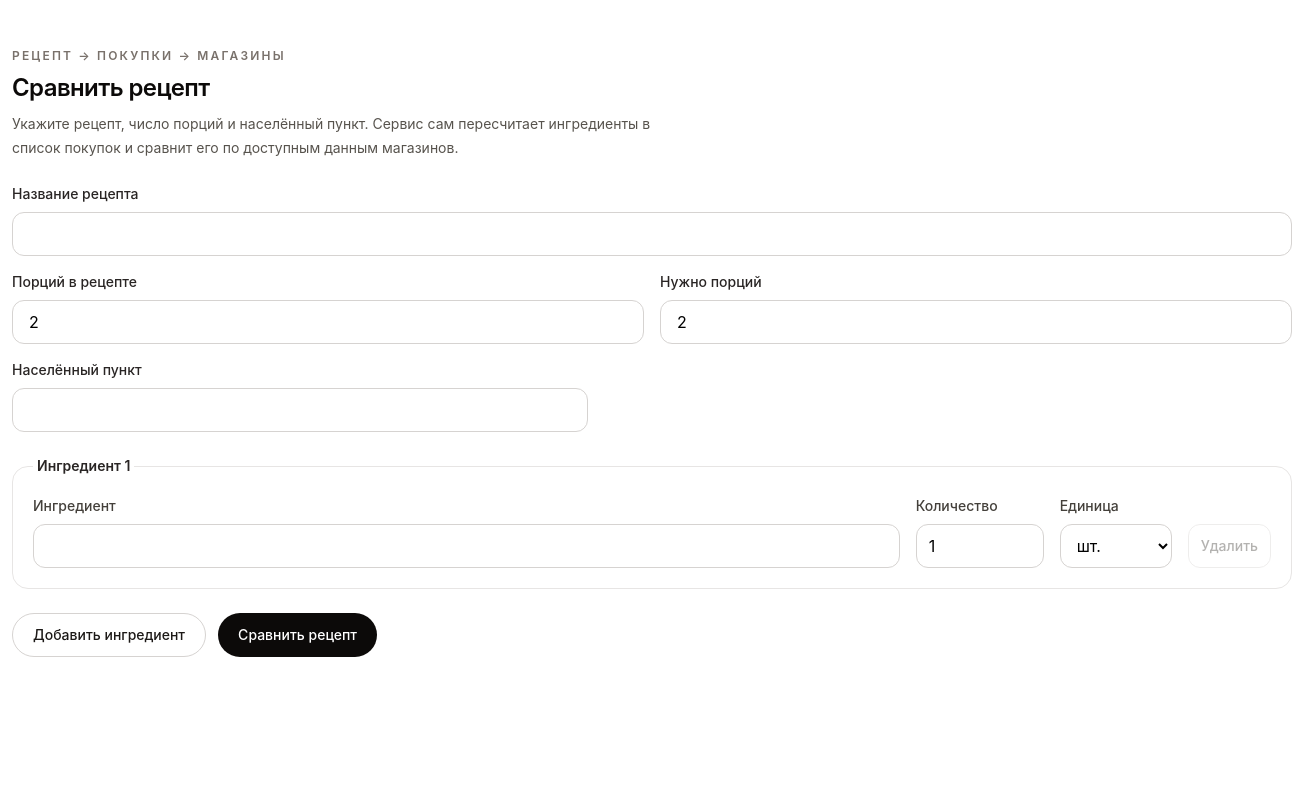
Recipe comparison form › shows one accessible fail-closed state when the service is unavailable
Type "Блины" into the field labelled "Название рецепта" at (652,234), box [12,212,1292,256]
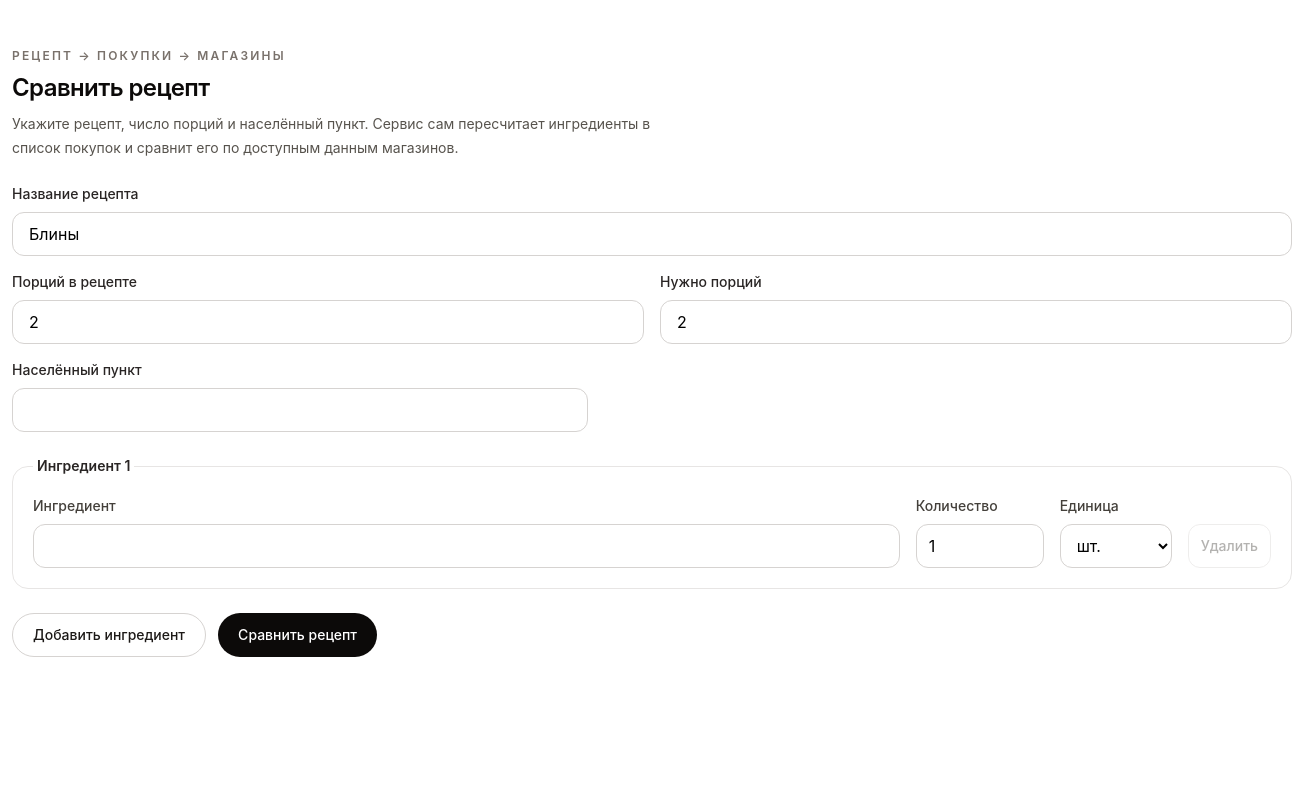
Type "Москва" into the field labelled "Населённый пункт" at (300,410), box [12,388,588,432]
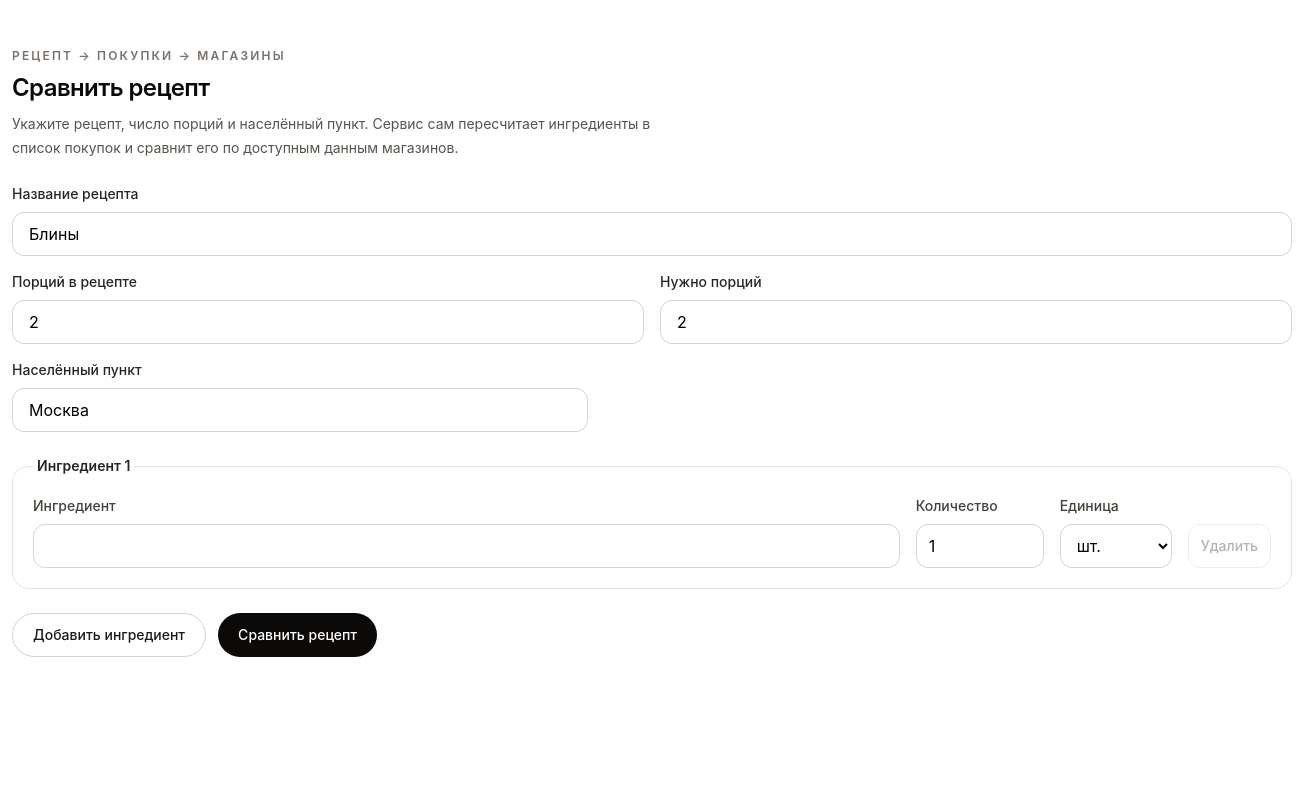
Type "Молоко" into the field labelled "Ингредиент" at (466,546), box [33,524,900,568]
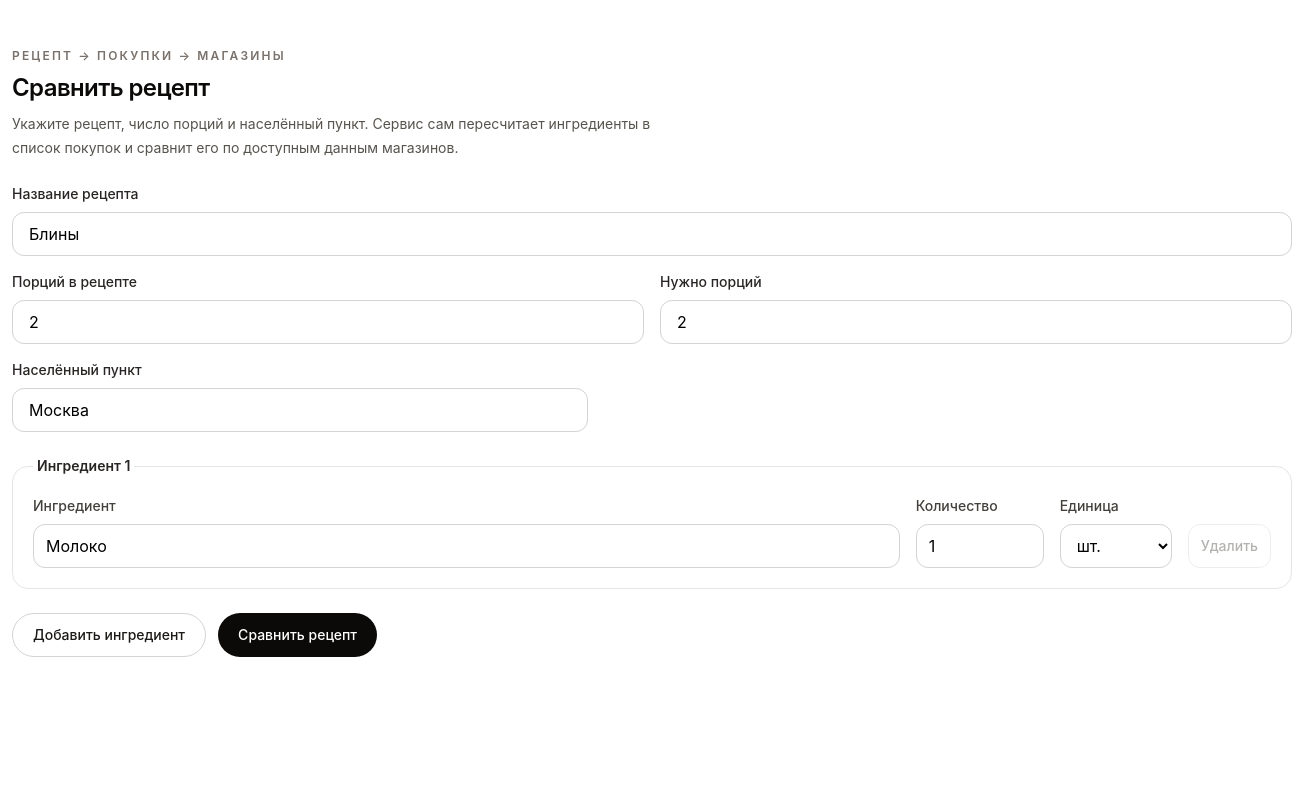
Click the button "Сравнить рецепт" at (298,635), box [218,613,377,657]
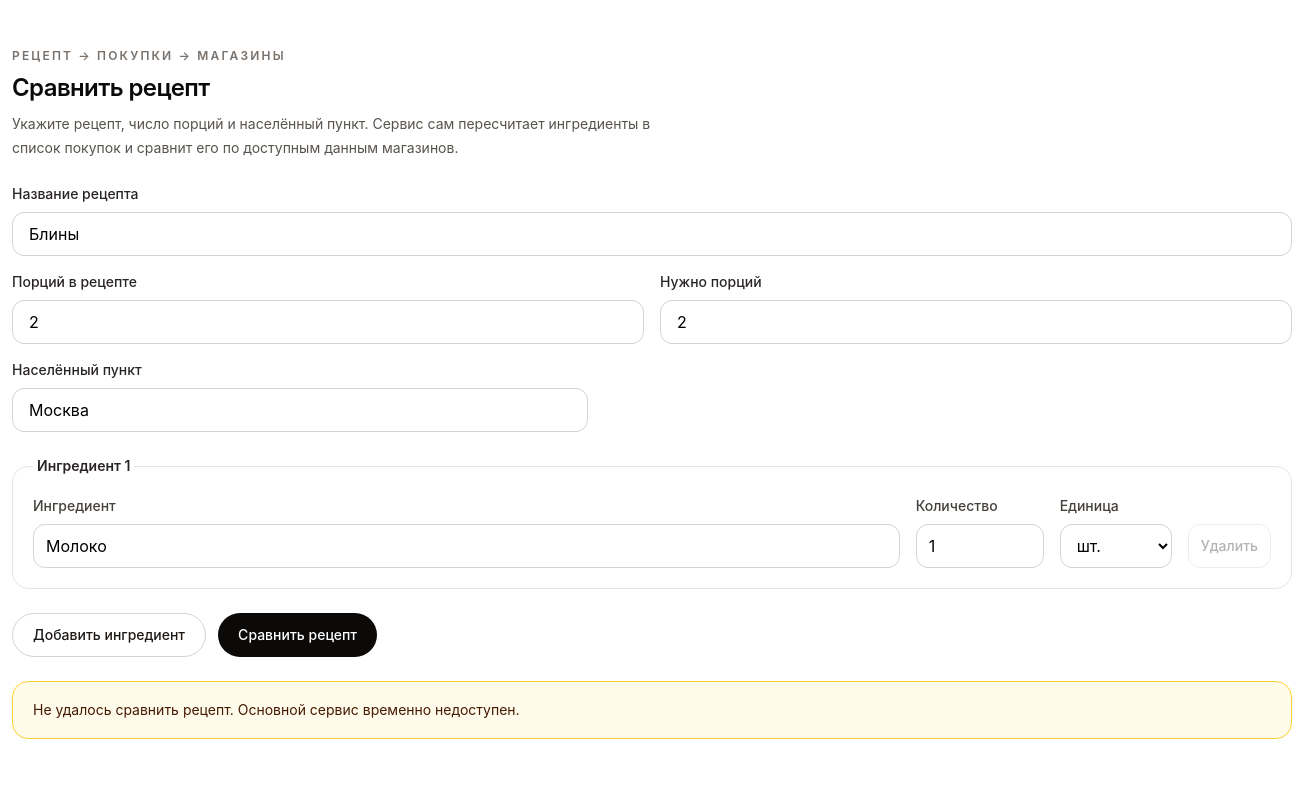
Now the message reads "Не удалось сравнить рецепт. Основной сервис временно недоступен.", box [33,701,520,718]
